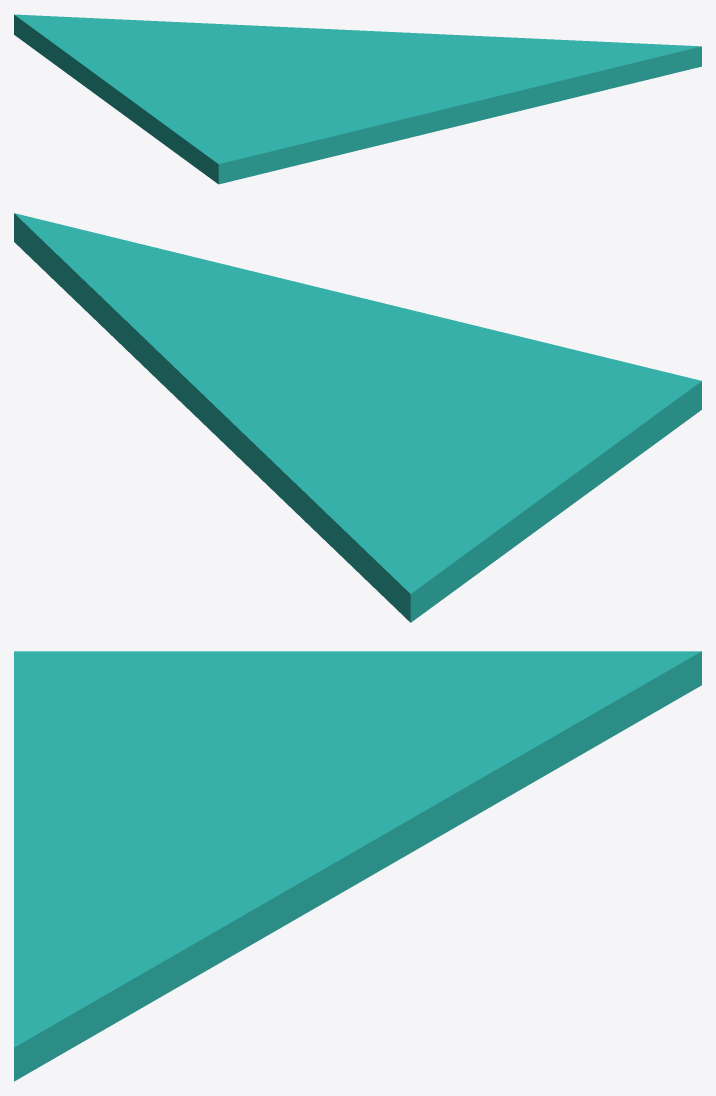
Rendered from right-triangle-lite.glb.
3 views of the same model, one above another, from view 1: azimuth 30°, elevation 25°; view 2: azimuth 150°, elevation 25°; view 3: azimuth 270°, elevation 25° (orthographic). The views are drawn at different scales.
Visible parts, largest first — view 1: Right triangular plate; view 2: Right triangular plate; view 3: Right triangular plate.
Part boxes in pixels (<box>): Right triangular plate: <box>14,14,701,184</box>; Right triangular plate: <box>14,213,701,622</box>; Right triangular plate: <box>14,651,701,1081</box>.
Bounding box in the file's own units: 1.5 × 0.06 × 1.1.
